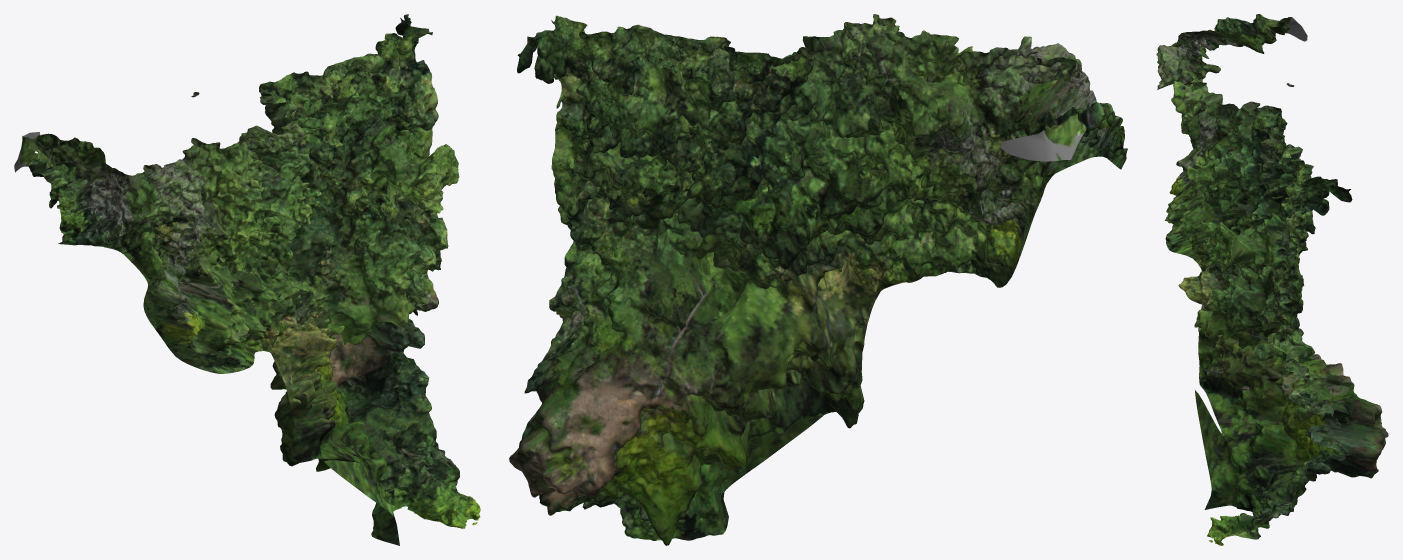
File: Tile_+005_+017.fbx
3 renders of one model, left to right at view 1: azimuth 30°, elevation 25°; view 2: azimuth 150°, elevation 25°; view 3: azimuth 270°, elevation 25°, orthographic. The views are drawn at different scales.
Visible parts, largest first — view 1: DefaultName; view 2: DefaultName; view 3: DefaultName.
Boxes of the visible parts, x1=… form: DefaultName: x1=14, y1=14, x2=480, y2=545; DefaultName: x1=509, y1=14, x2=1127, y2=545; DefaultName: x1=1156, y1=14, x2=1388, y2=545.
Size of the model in its own units: 22.54 by 22.54 by 13.
